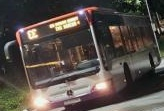bus: (22, 26, 41, 41)
